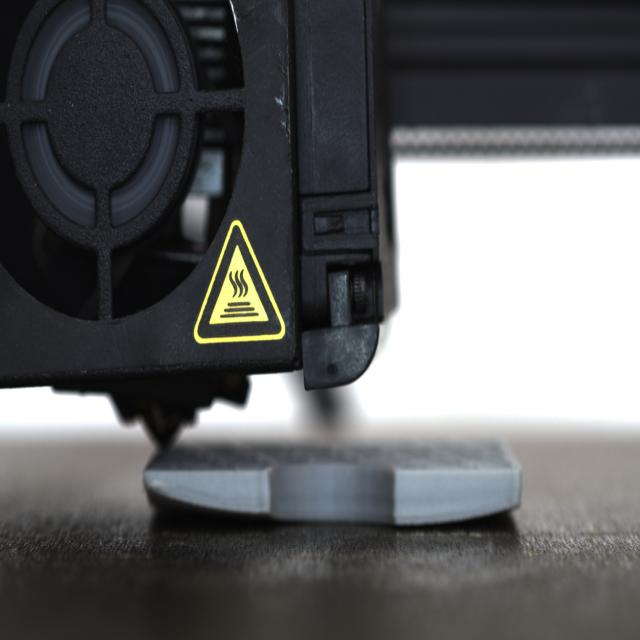Warping: (450, 493, 524, 529)
